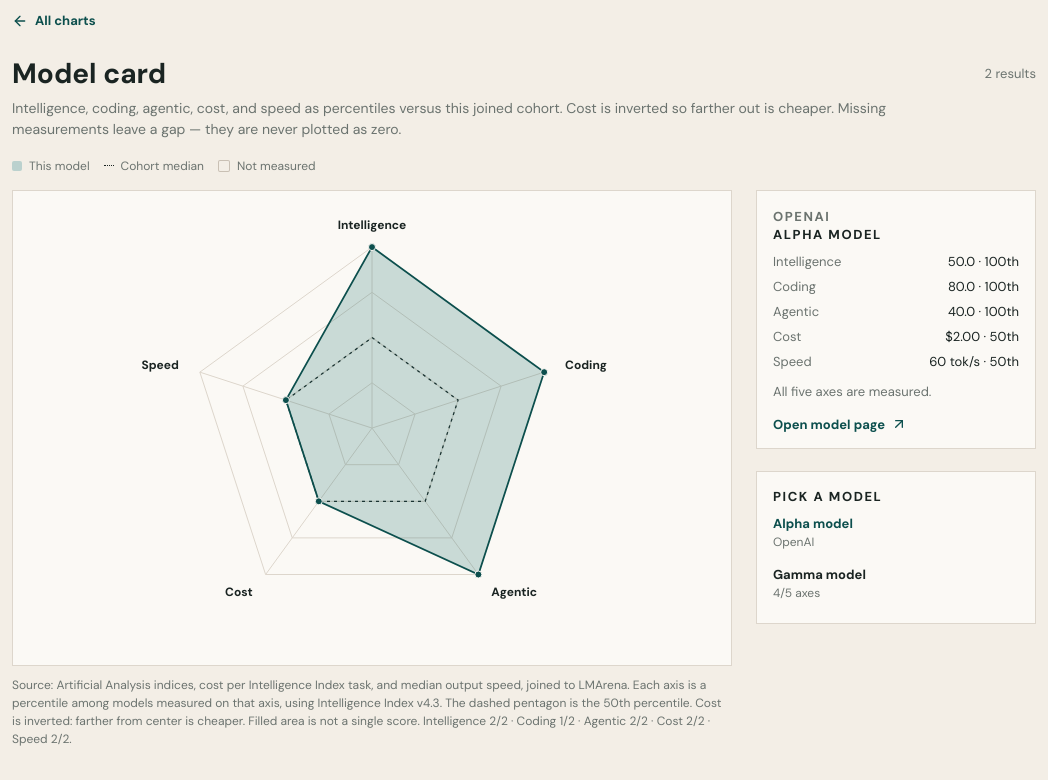
Test: ModelCardPage › profiles the default model and keeps a missing coding index as not measured
Check: the heading "Model card" is shown, box [12, 55, 166, 92]
Check: the heading "Alpha model" is shown, box [773, 226, 882, 243]
Click the button "Gamma model 4/5 axes": (896, 583) [773, 558, 1019, 609]
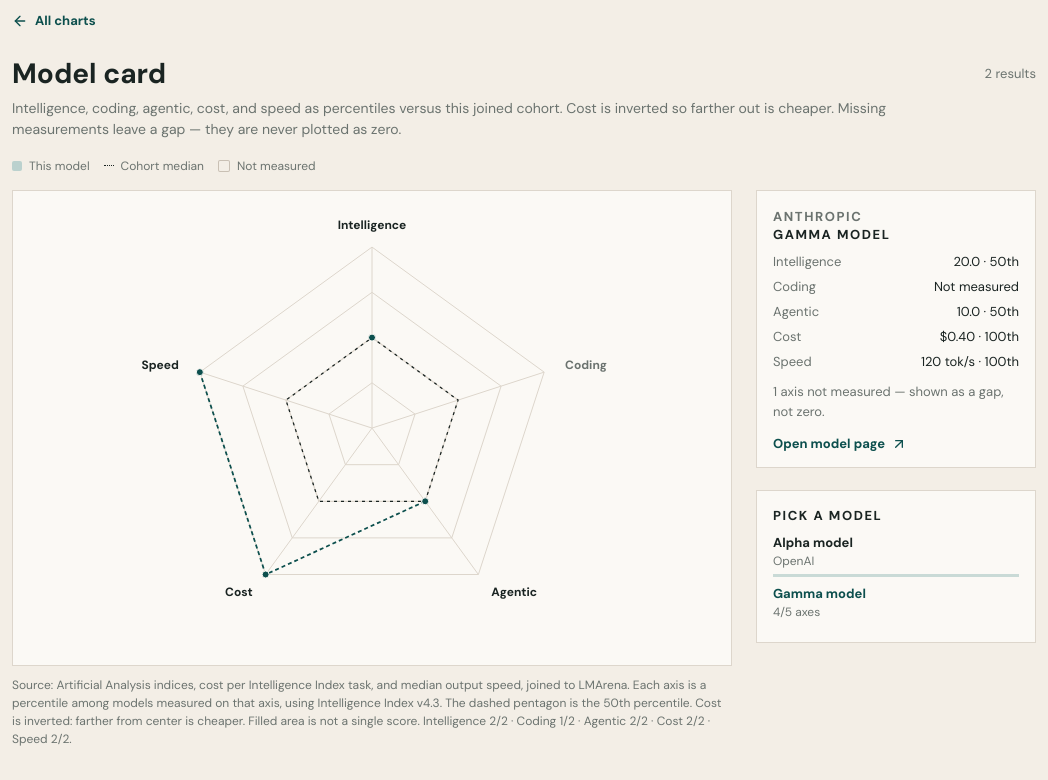
Check: the heading "Gamma model" is shown, box [773, 226, 890, 243]
Check: the text "1 axis not measured — shown as a gap, not zero." is shown, box [773, 382, 1019, 421]
